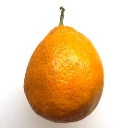orange: (21, 16, 110, 125)
